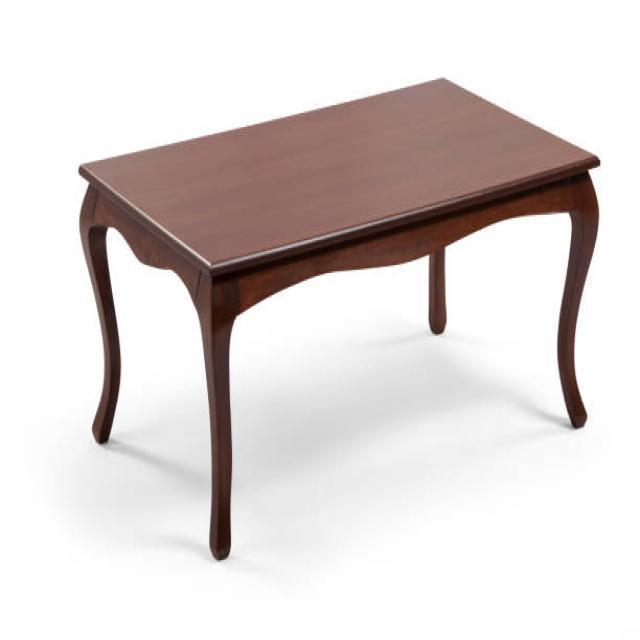table: (77, 73, 600, 560)
